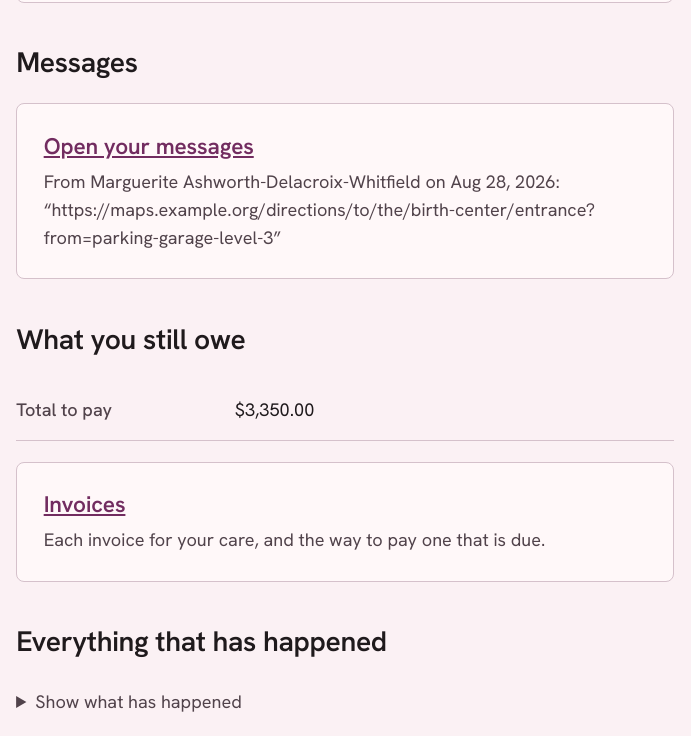
Test: the Activity disclosure (#486) › renders closed under its own heading, with a descriptive toggle
(page scrolled)
Expected: the heading "Everything that has happened" is shown, x1=16 y1=623 x2=387 y2=660
Click the heading "Show what has happened" at point(139, 701), box x1=35 y1=690 x2=242 y2=712
(page scrolled)
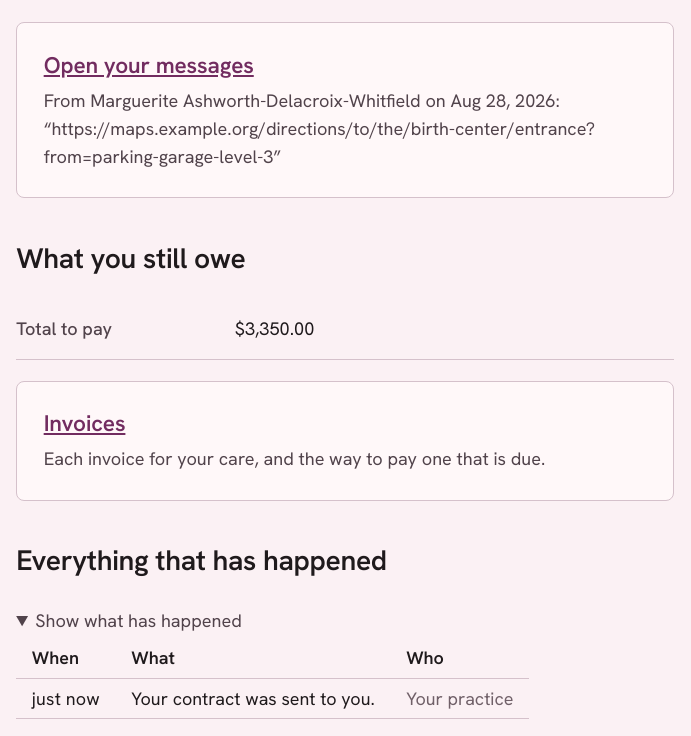
Expected: the text "Your practice" is shown, x1=390 y1=679 x2=529 y2=719
